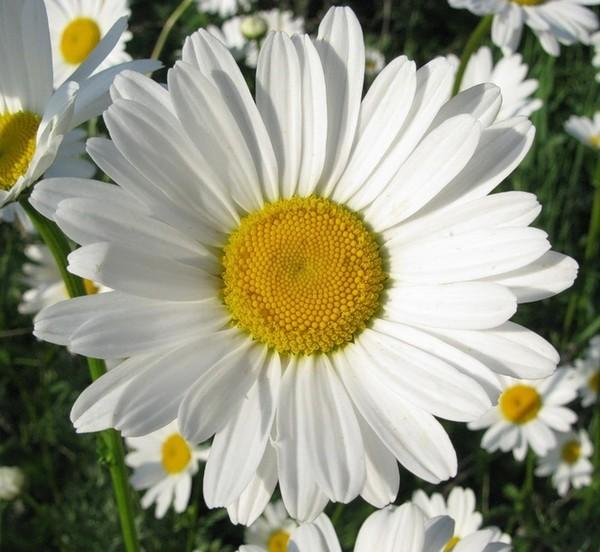chamomile: (57, 40, 561, 506), (6, 0, 141, 112), (470, 347, 584, 474), (0, 85, 81, 208), (433, 53, 549, 129), (114, 409, 191, 517), (462, 5, 596, 52), (223, 503, 332, 552), (370, 518, 514, 552)
